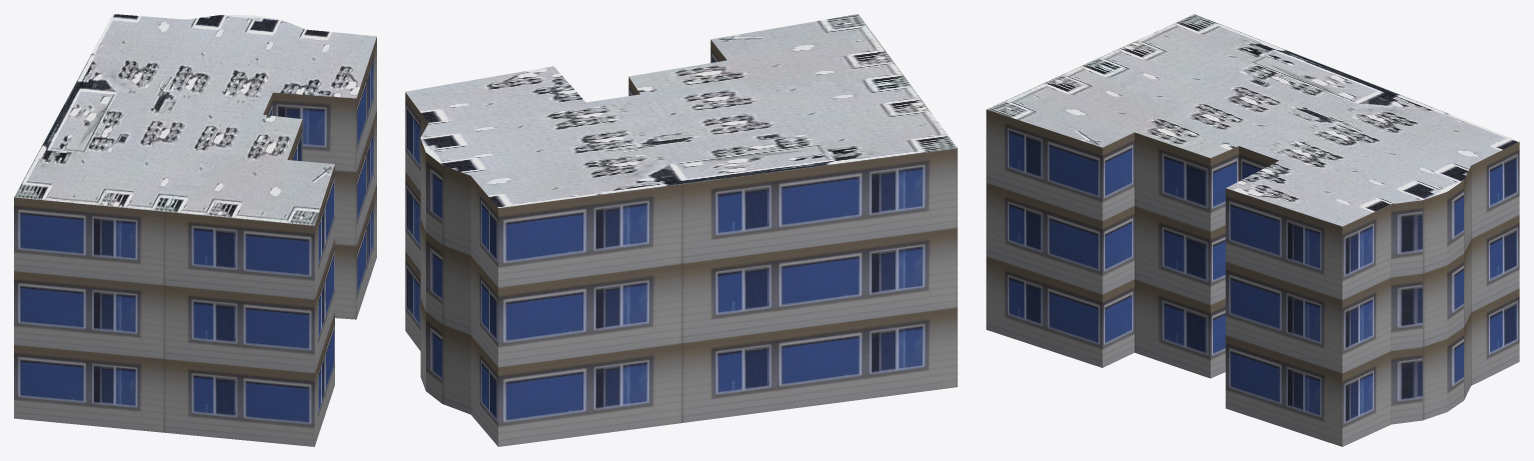
Rendered from ResTex__1036.fbx.
The picture shows the model from 3 angles, left to right: view 1: azimuth 30°, elevation 25°; view 2: azimuth 150°, elevation 25°; view 3: azimuth 270°, elevation 25°; orthographic projection. The views are drawn at different scales.
Parts seen in each view (by area): view 1: CityEngineMaterial_23_m, CityEngineMaterial_8_m; view 2: CityEngineMaterial_23_m, CityEngineMaterial_8_m; view 3: CityEngineMaterial_23_m, CityEngineMaterial_8_m.
Boxes of the visible parts, bbox=[...] form: CityEngineMaterial_23_m: bbox=[14, 37, 376, 446]; CityEngineMaterial_8_m: bbox=[14, 14, 376, 225]; CityEngineMaterial_23_m: bbox=[405, 40, 957, 446]; CityEngineMaterial_8_m: bbox=[405, 14, 957, 207]; CityEngineMaterial_23_m: bbox=[986, 109, 1519, 446]; CityEngineMaterial_8_m: bbox=[987, 14, 1519, 226].
Size of the model in its own units: 18.63 by 9 by 19.73.
Materials: 2 (2 with a texture image).
